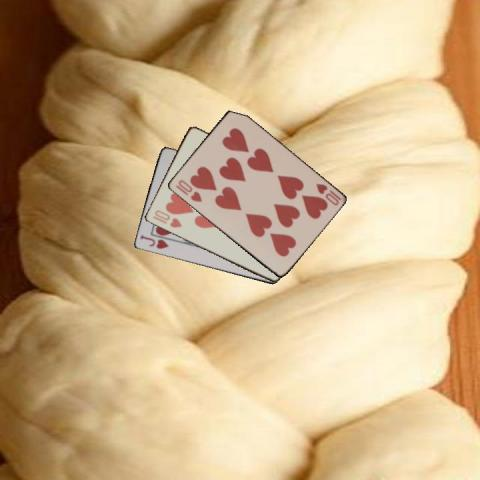10h: (172, 177, 203, 203), (312, 180, 342, 206), (150, 207, 183, 229)
Jh: (137, 232, 169, 251)
